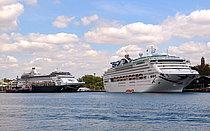Ship: (101, 42, 202, 97), (15, 65, 88, 95)
